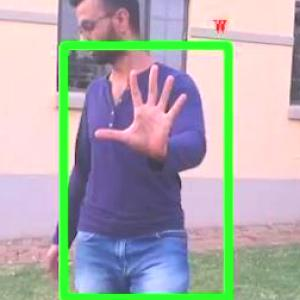follow_hand: (96, 56, 196, 162)
